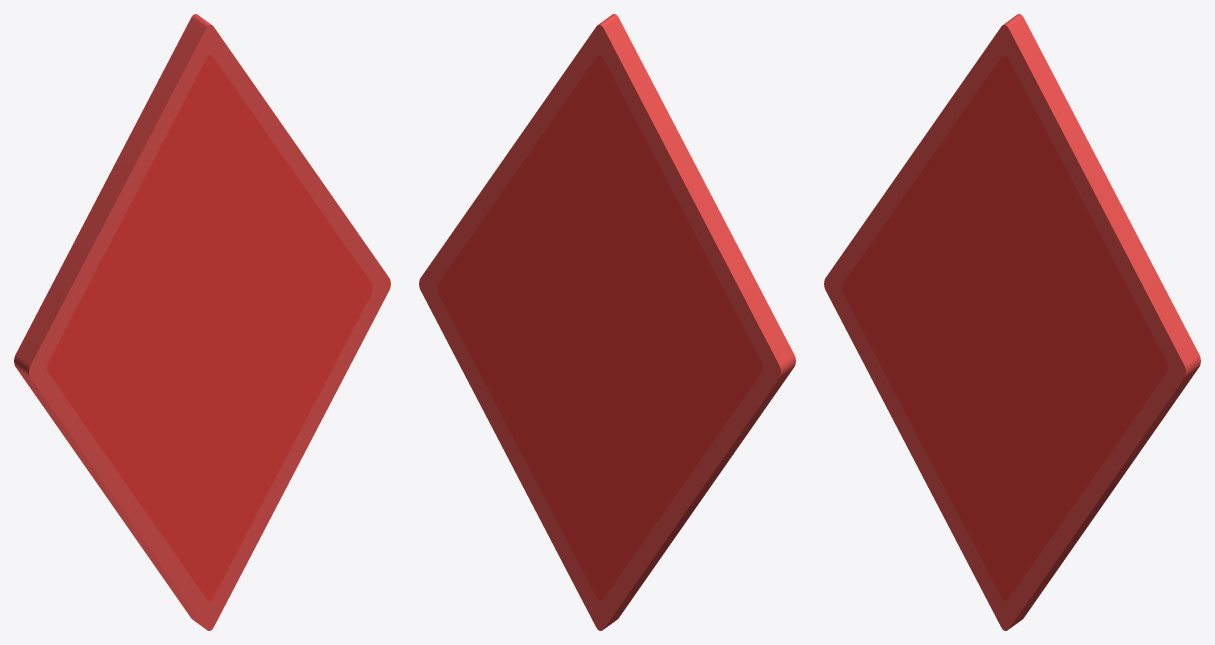
The model's file is diamond_suit.gltf.
The picture shows the model from 3 angles, left to right: view 1: azimuth 30°, elevation 25°; view 2: azimuth 150°, elevation 25°; view 3: azimuth 330°, elevation 25°; orthographic projection.
Parts seen in each view (by area): view 1: Plane.314; view 2: Plane.314; view 3: Plane.314.
Boxes of the visible parts, box(x1,y1,x2,y2) form: Plane.314: box(14, 14, 390, 630); Plane.314: box(419, 14, 795, 630); Plane.314: box(824, 14, 1200, 630).
Size of the model in its own units: 1.44 by 2.3 by 0.1031.
Materials: 1 (1 with a texture image).
